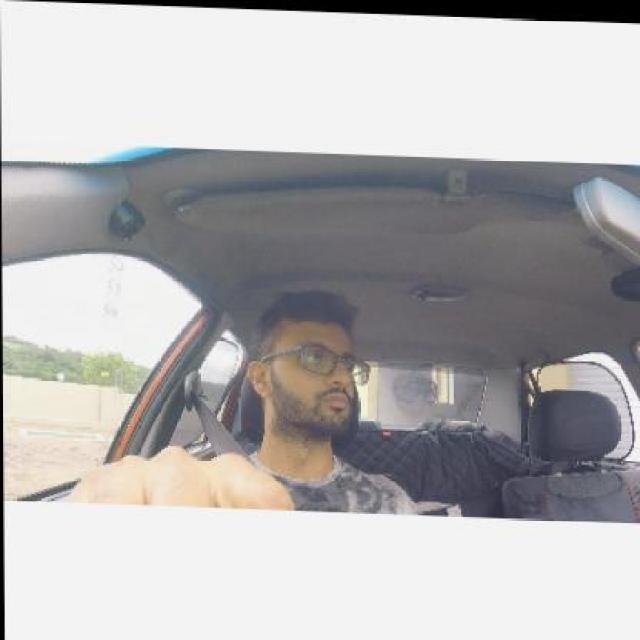LeftRight: (240, 272, 402, 484)
